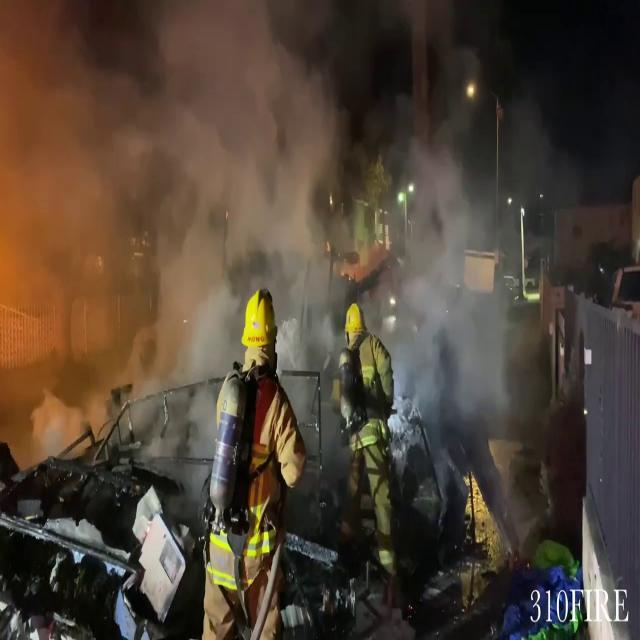Smoke: (0, 1, 590, 437)
